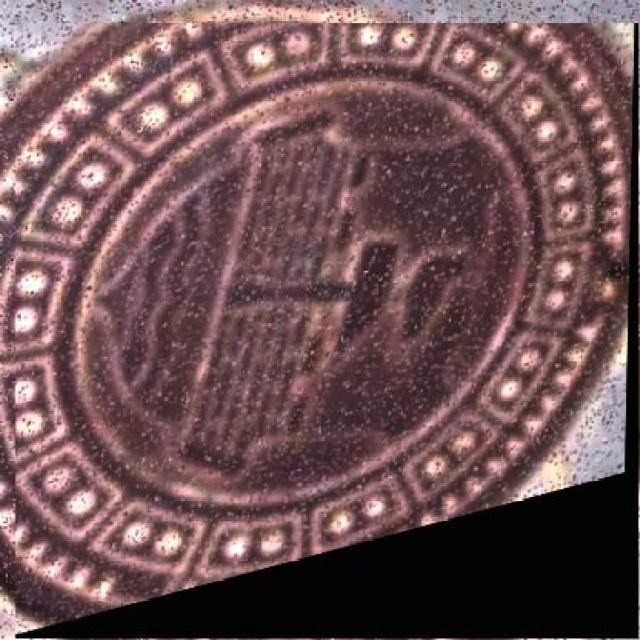Manhole: (16, 23, 638, 639)
